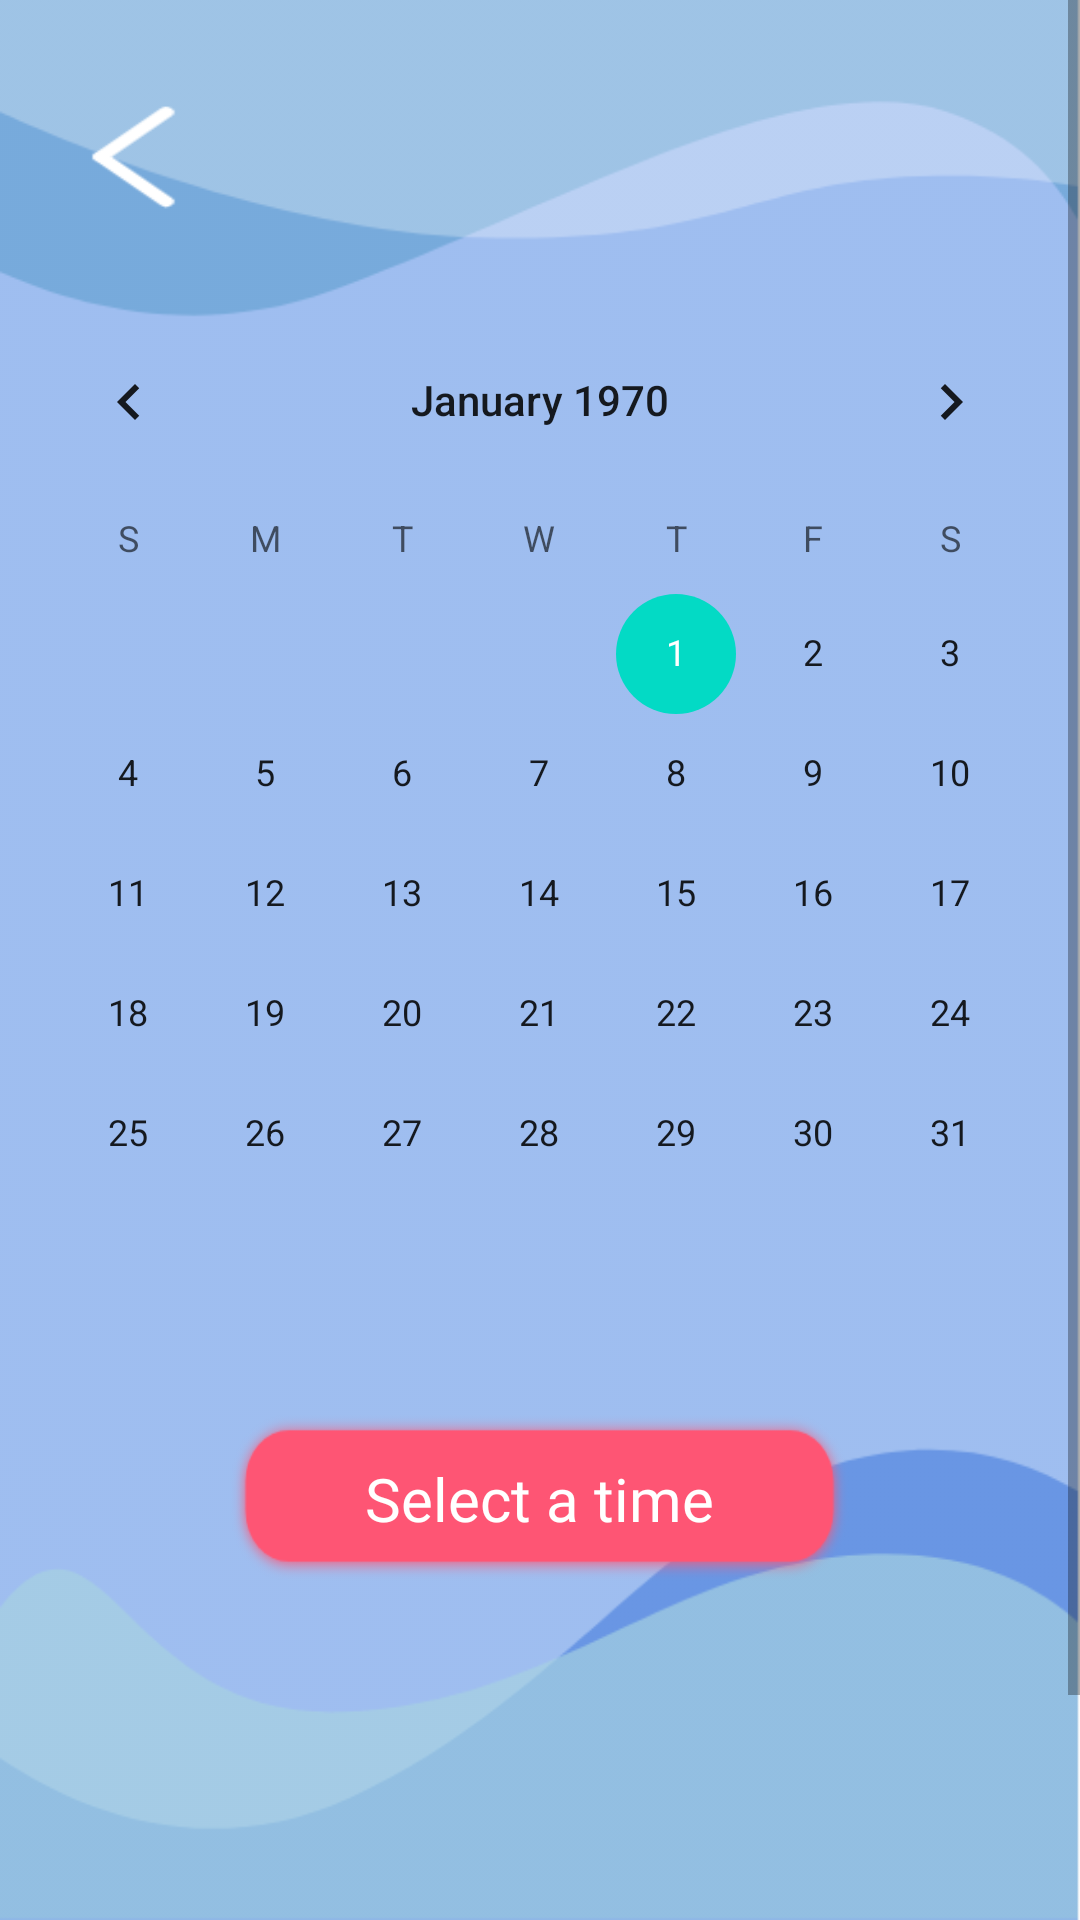

Named icons in this screenshot (1080*1920) and their centers, point (x, y):
back arrow: point (133, 157)
